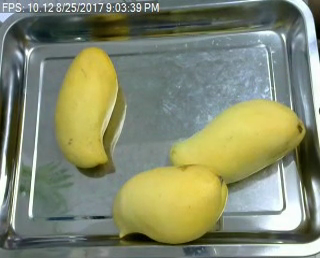Mango: (171, 97, 305, 182), (115, 167, 231, 245), (53, 46, 119, 168)
